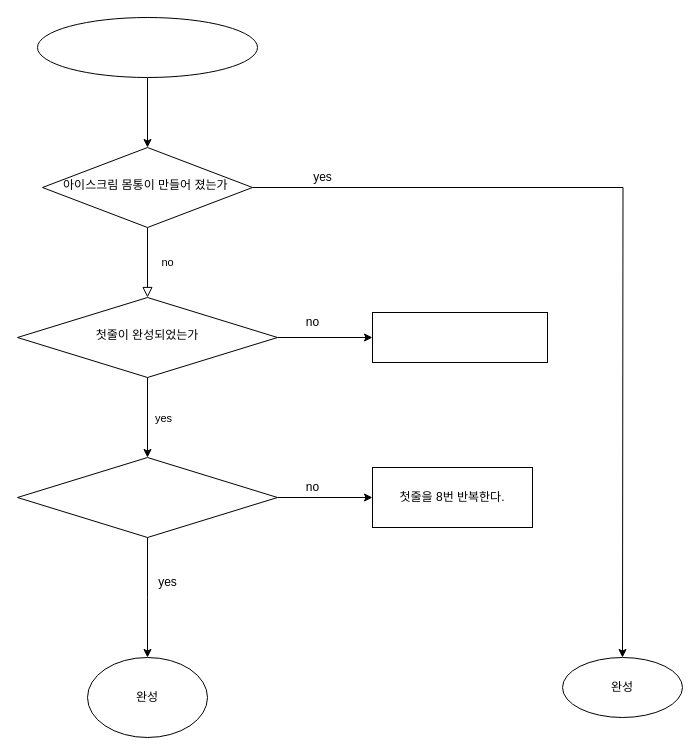
Some shapes in this 700 by 755 pixel diagram are drawn without their labels. The shapes that lost their labels are listed below. From the top down, each one's centre as x and y in pixels, then its label:
At [147,47]: "아이스크림 만들기".
At [460,337]: "가로로 *를 11개 찍어준다".
At [147,497]: "몸통이 완성 되었는가".
